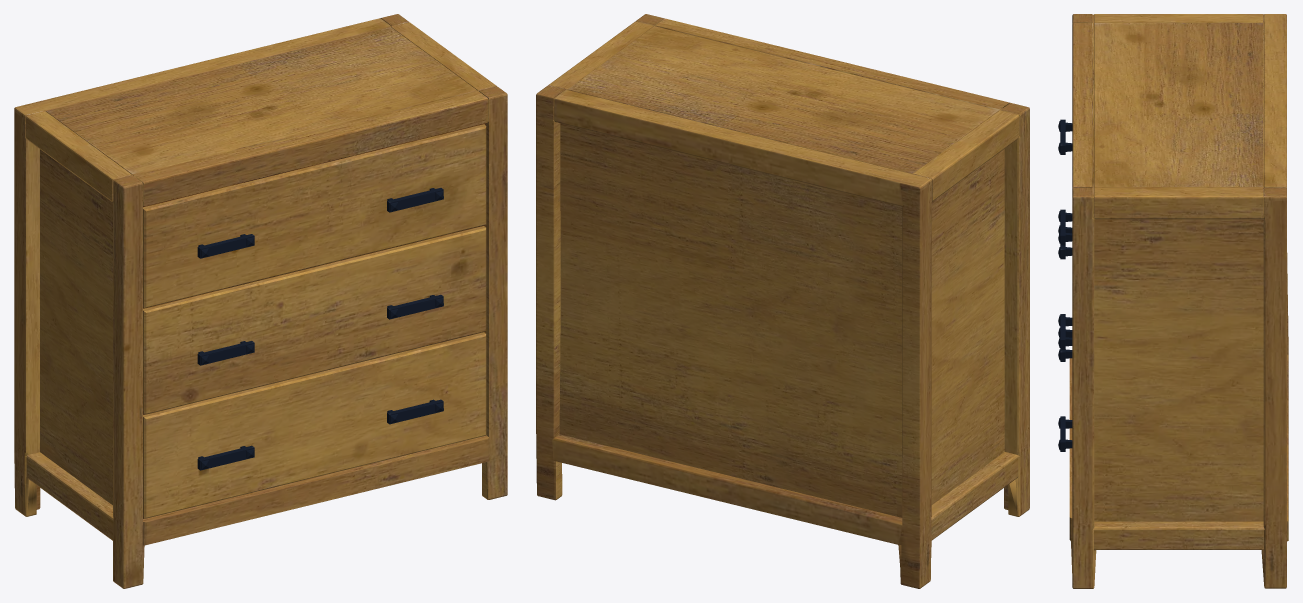
The picture shows the model from 3 angles, left to right: view 1: azimuth 30°, elevation 25°; view 2: azimuth 150°, elevation 25°; view 3: azimuth 270°, elevation 25°; orthographic projection. The views are drawn at different scales.
Parts seen in each view (by area): view 1: RootNode; view 2: RootNode; view 3: RootNode.
Boxes of the visible parts, box(x1,y1,x2,y2) form: RootNode: box(14, 14, 507, 588); RootNode: box(536, 14, 1029, 588); RootNode: box(1058, 14, 1288, 588).
Bounding box in the file's own units: 0.804 × 0.8038 × 0.4274.
1 material, 1 textured.
